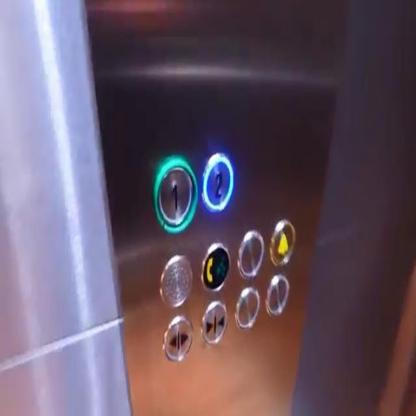1: (152, 154, 198, 233)
2: (202, 150, 233, 214)
alarm: (268, 218, 296, 269)
call: (202, 242, 230, 292)
close: (200, 296, 228, 346)
empty: (237, 230, 263, 276), (266, 271, 290, 318), (235, 286, 260, 330)
open: (162, 314, 194, 363)
speaker: (159, 253, 192, 307)
